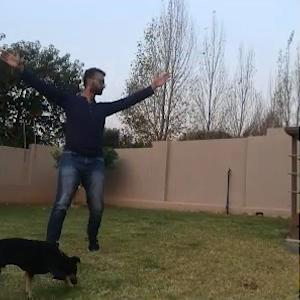takeoff: (0, 48, 177, 254)
